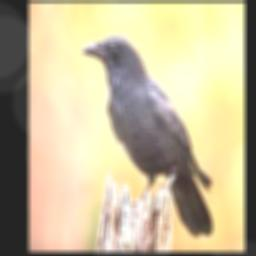Crow: (82, 36, 214, 237)
